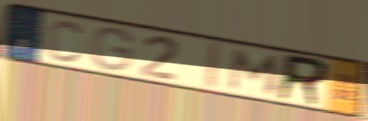2: (139, 33, 182, 83)
C: (46, 18, 84, 64)
G: (90, 26, 135, 73)
I: (201, 39, 224, 92)
M: (225, 47, 284, 97)
R: (274, 52, 332, 108)
